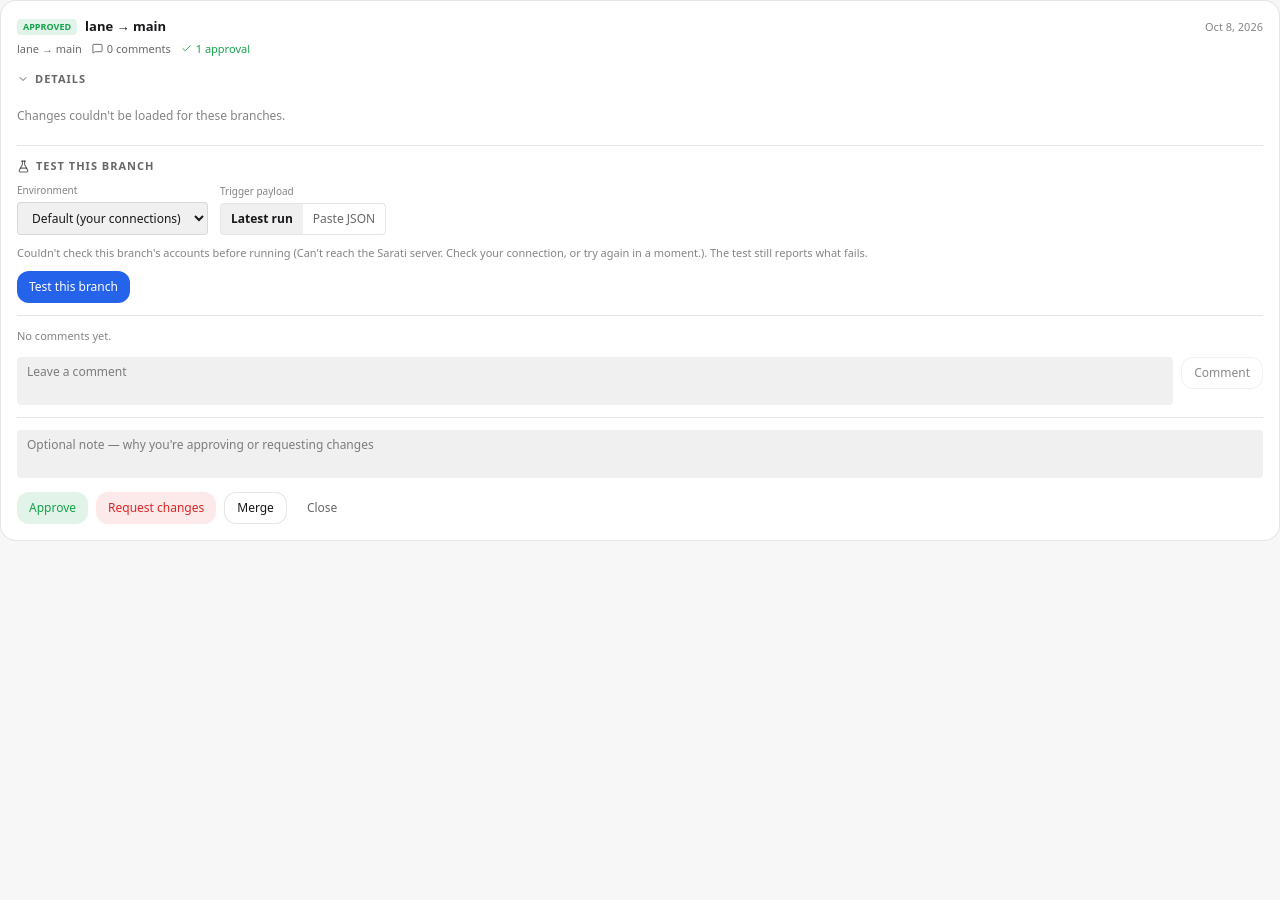
Test: ActivityFeed protected merges › retires a review's merge refusal once its update runs, so it can't sit over the resolver
Click the button "Merge": click(256, 508) [224, 492, 287, 524]
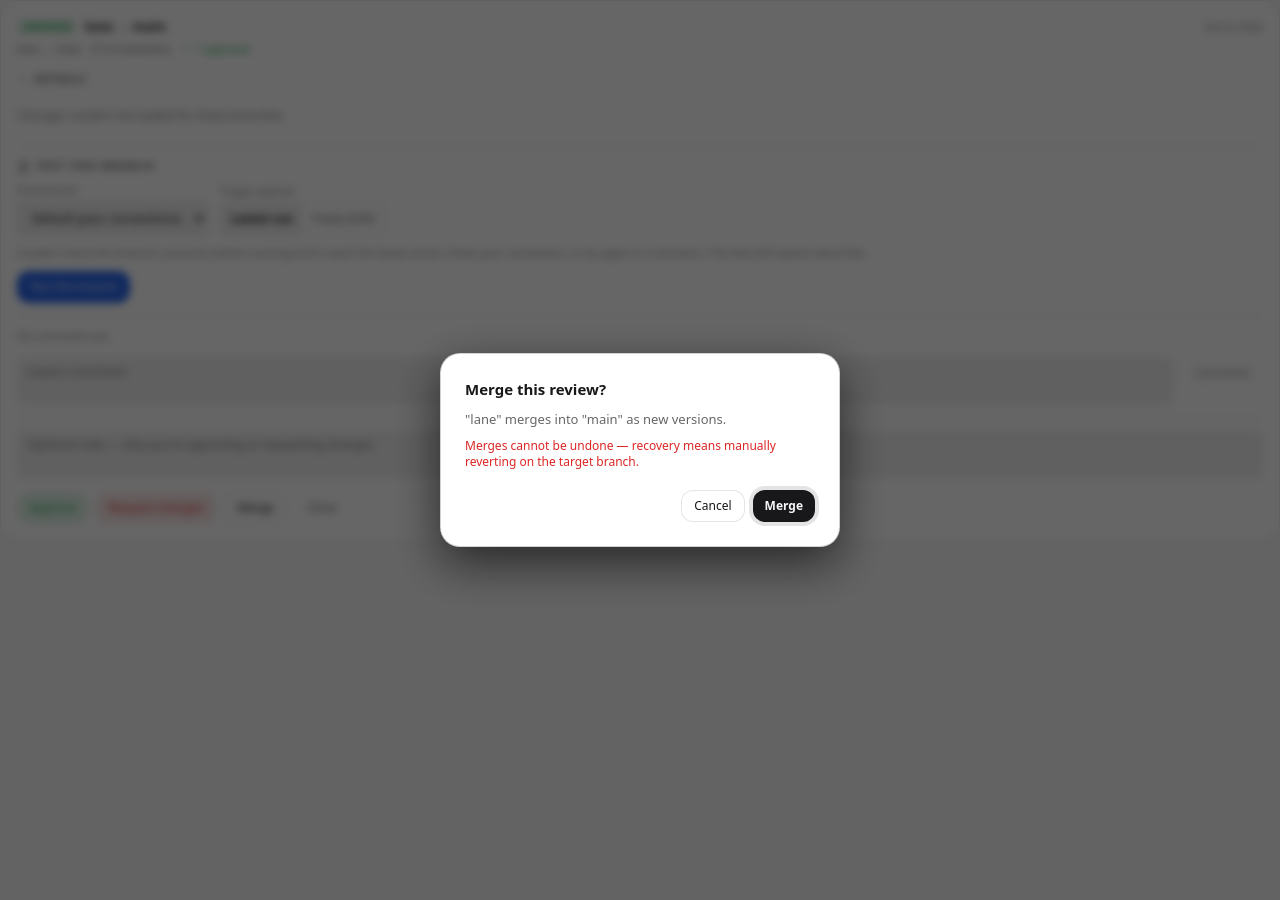
Click the button "Merge": click(784, 506) [753, 490, 815, 522]
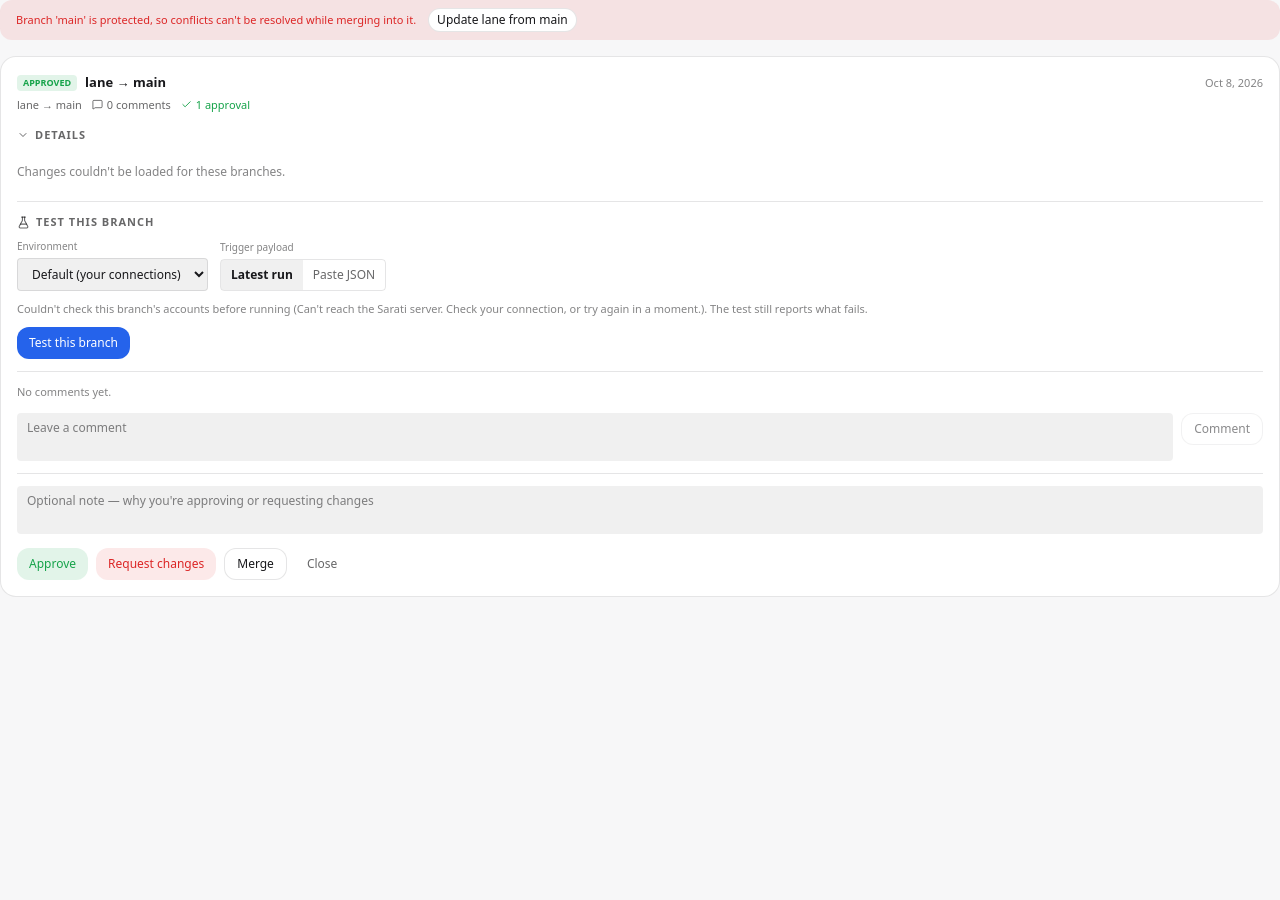
Click the button "Update lane from main": click(502, 20) [428, 8, 577, 32]
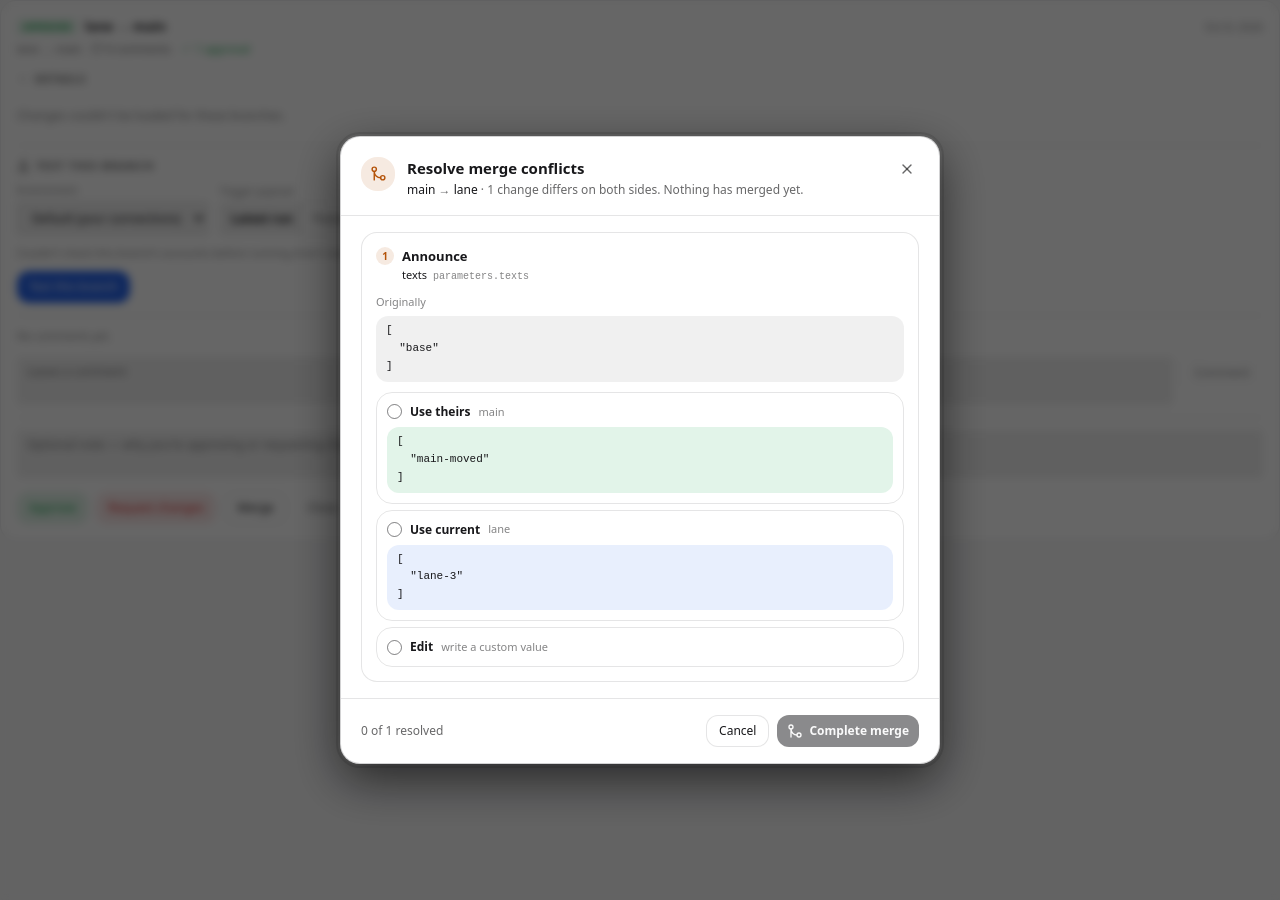
Now the heading "Resolve merge conflicts" is shown, box [407, 158, 584, 178]
